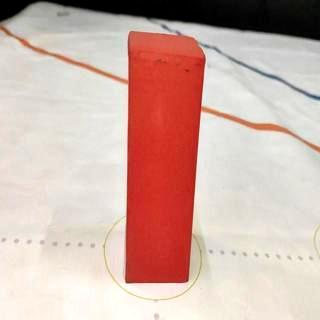redbox: (127, 29, 207, 282)
